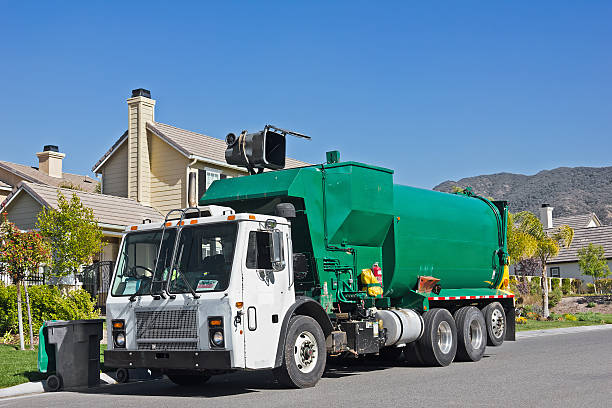Truck: (100, 129, 527, 389)
